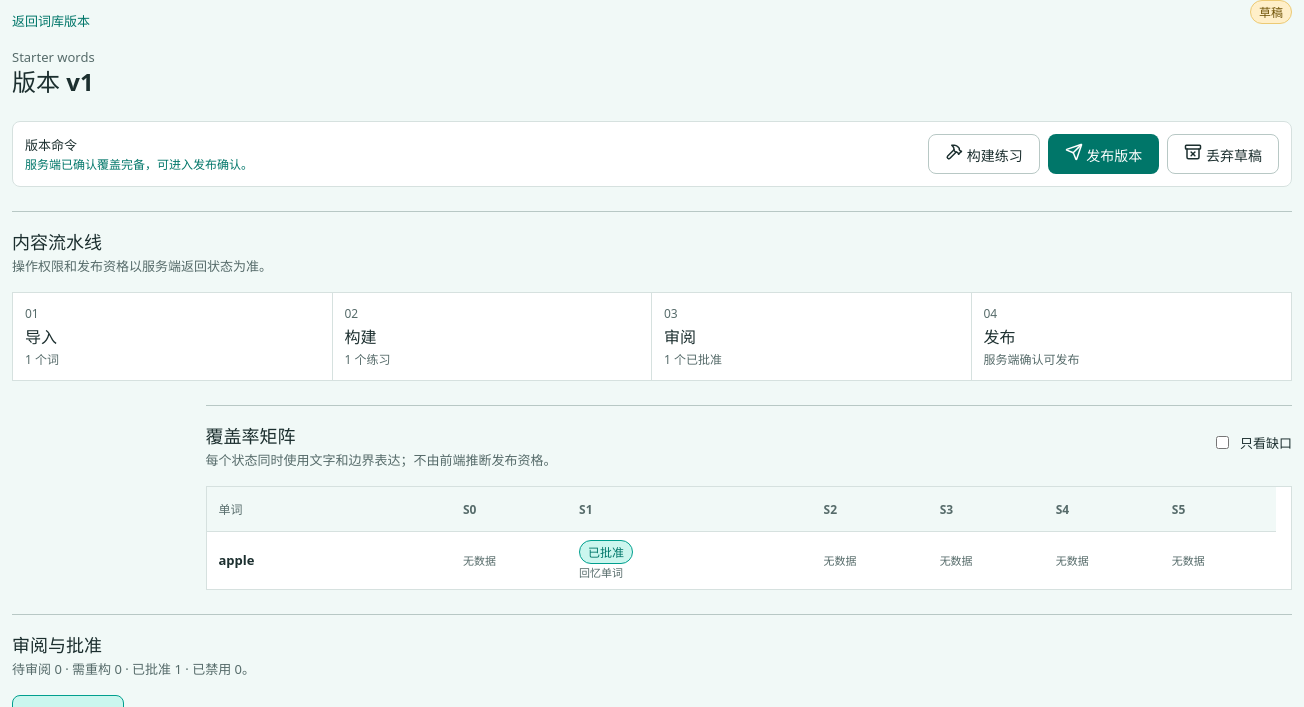
Test: SourceVersionDetailPage › shows an explicit empty state when the gap filter has no matching word
The image size is (1304, 707).
Click the checkbox labelled "只看缺口" at [1222, 442], box x1=1216 y1=436 x2=1229 y2=449
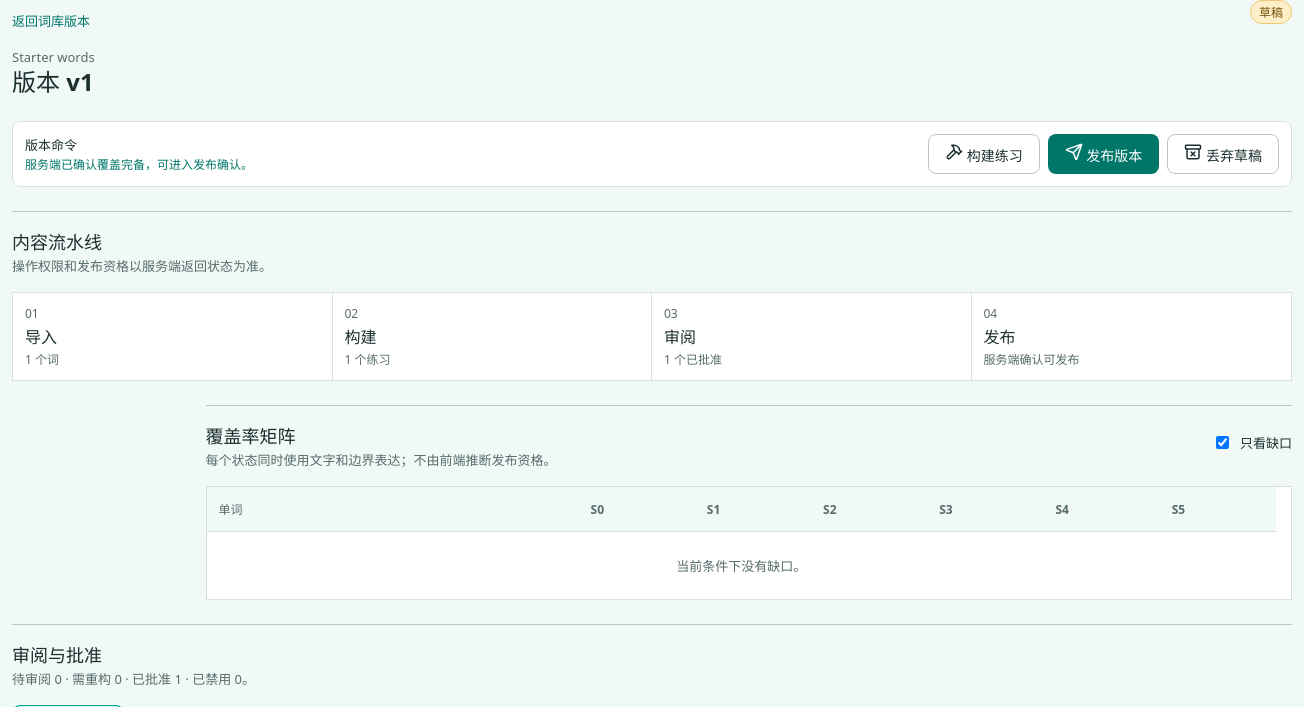
Result: the message "当前条件下没有缺口。" is shown at x1=676 y1=557 x2=806 y2=575
